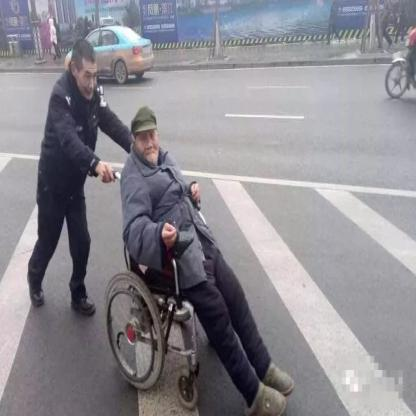wheelchair: (103, 108, 294, 415)
